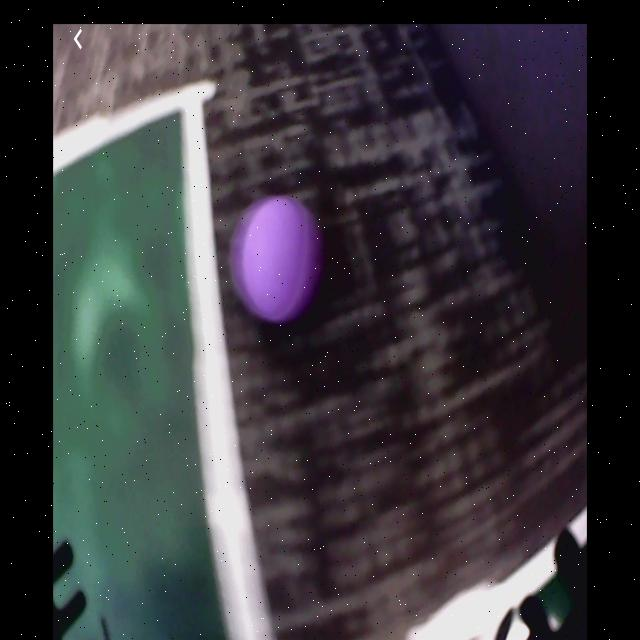ball: (239, 199, 324, 323)
